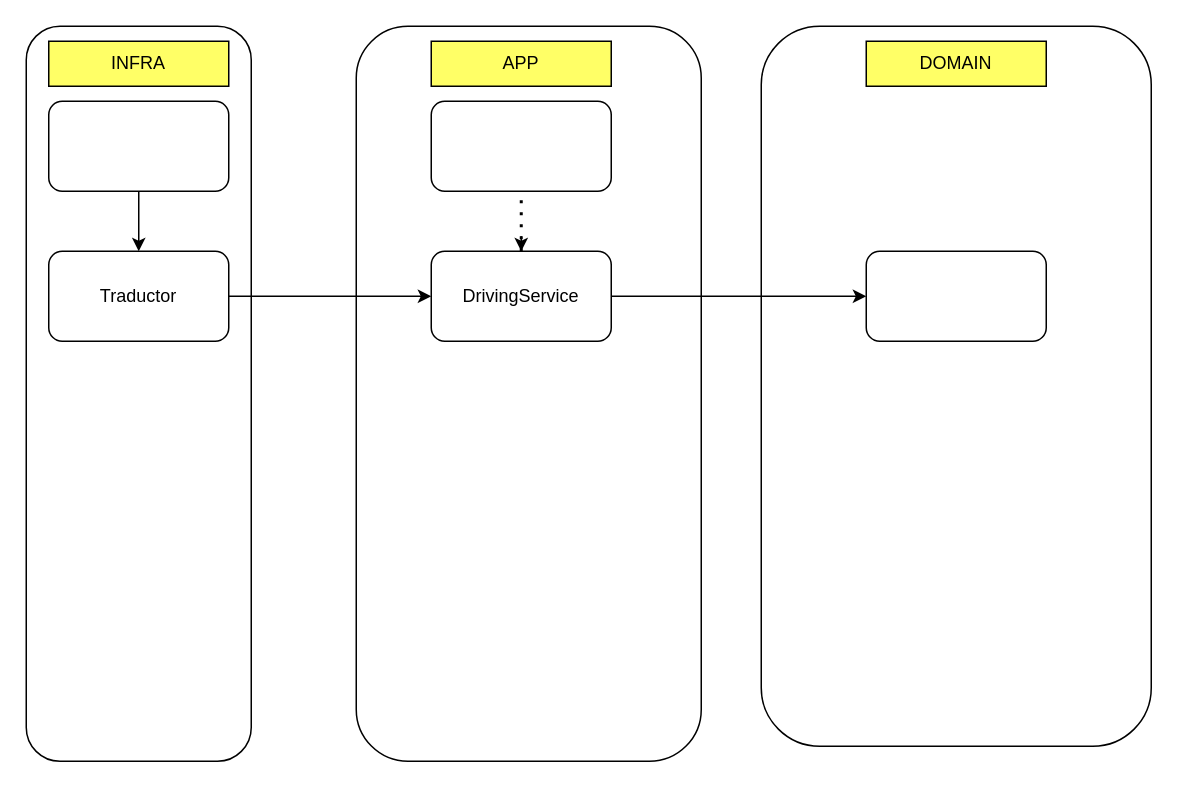
Image size: 1178x788. Some labels were removed from this diagram. Each missing label, with the centre of its shape:
"DrivingServiceImpl" goes at (x=520, y=145).
"INPUT (MAIN)" goes at (x=138, y=145).
"Rover" goes at (x=955, y=295).
